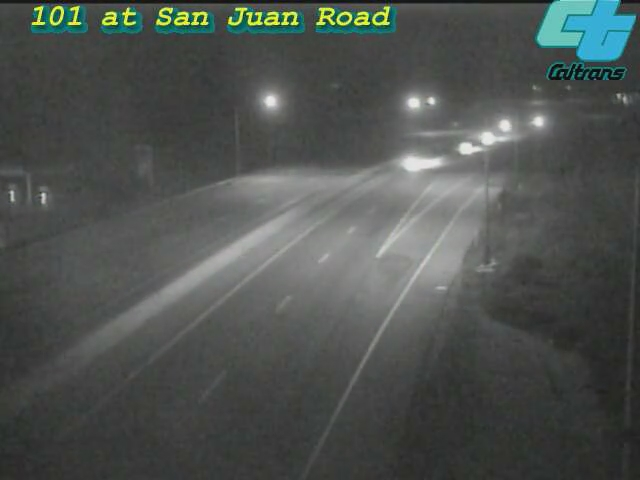vehicle: (374, 123, 454, 203), (480, 100, 530, 150), (516, 95, 566, 145), (462, 114, 512, 164), (441, 123, 491, 173)
